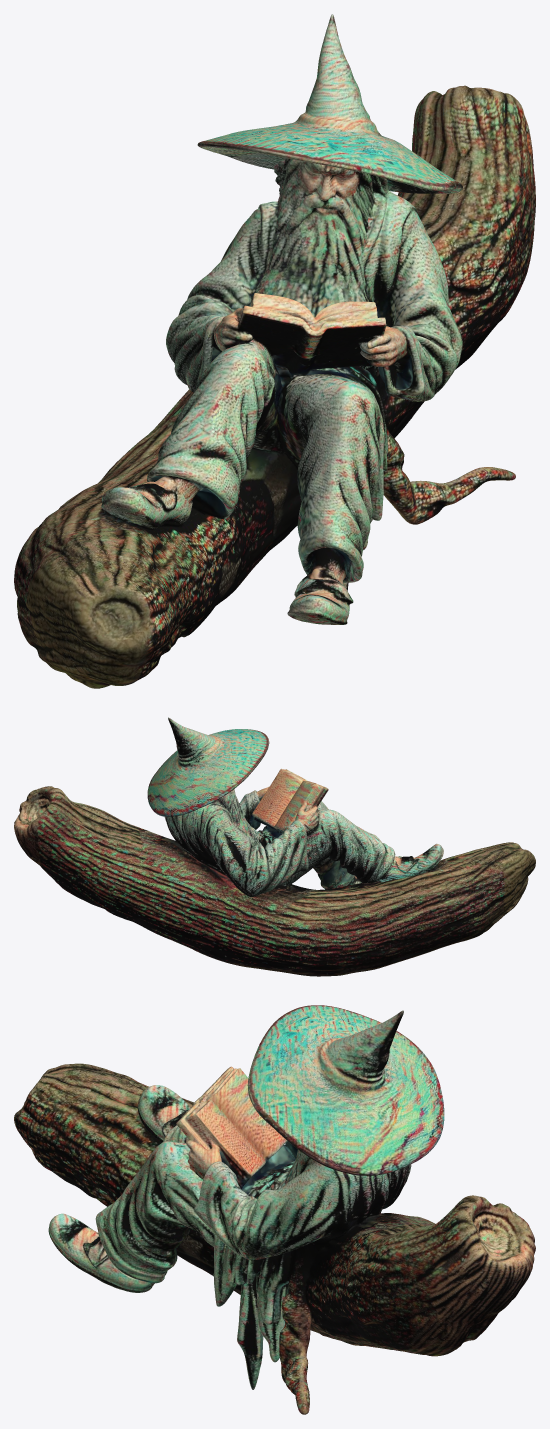
Rendered from wizard-compressed.glb.
3 renders of one model, top to bottom at view 1: azimuth 30°, elevation 25°; view 2: azimuth 150°, elevation 25°; view 3: azimuth 270°, elevation 25°, orthographic. The views are drawn at different scales.
Size of the model in its own units: 1.9 by 1.3 by 1.49.
Materials: 1 (1 with a texture image).
